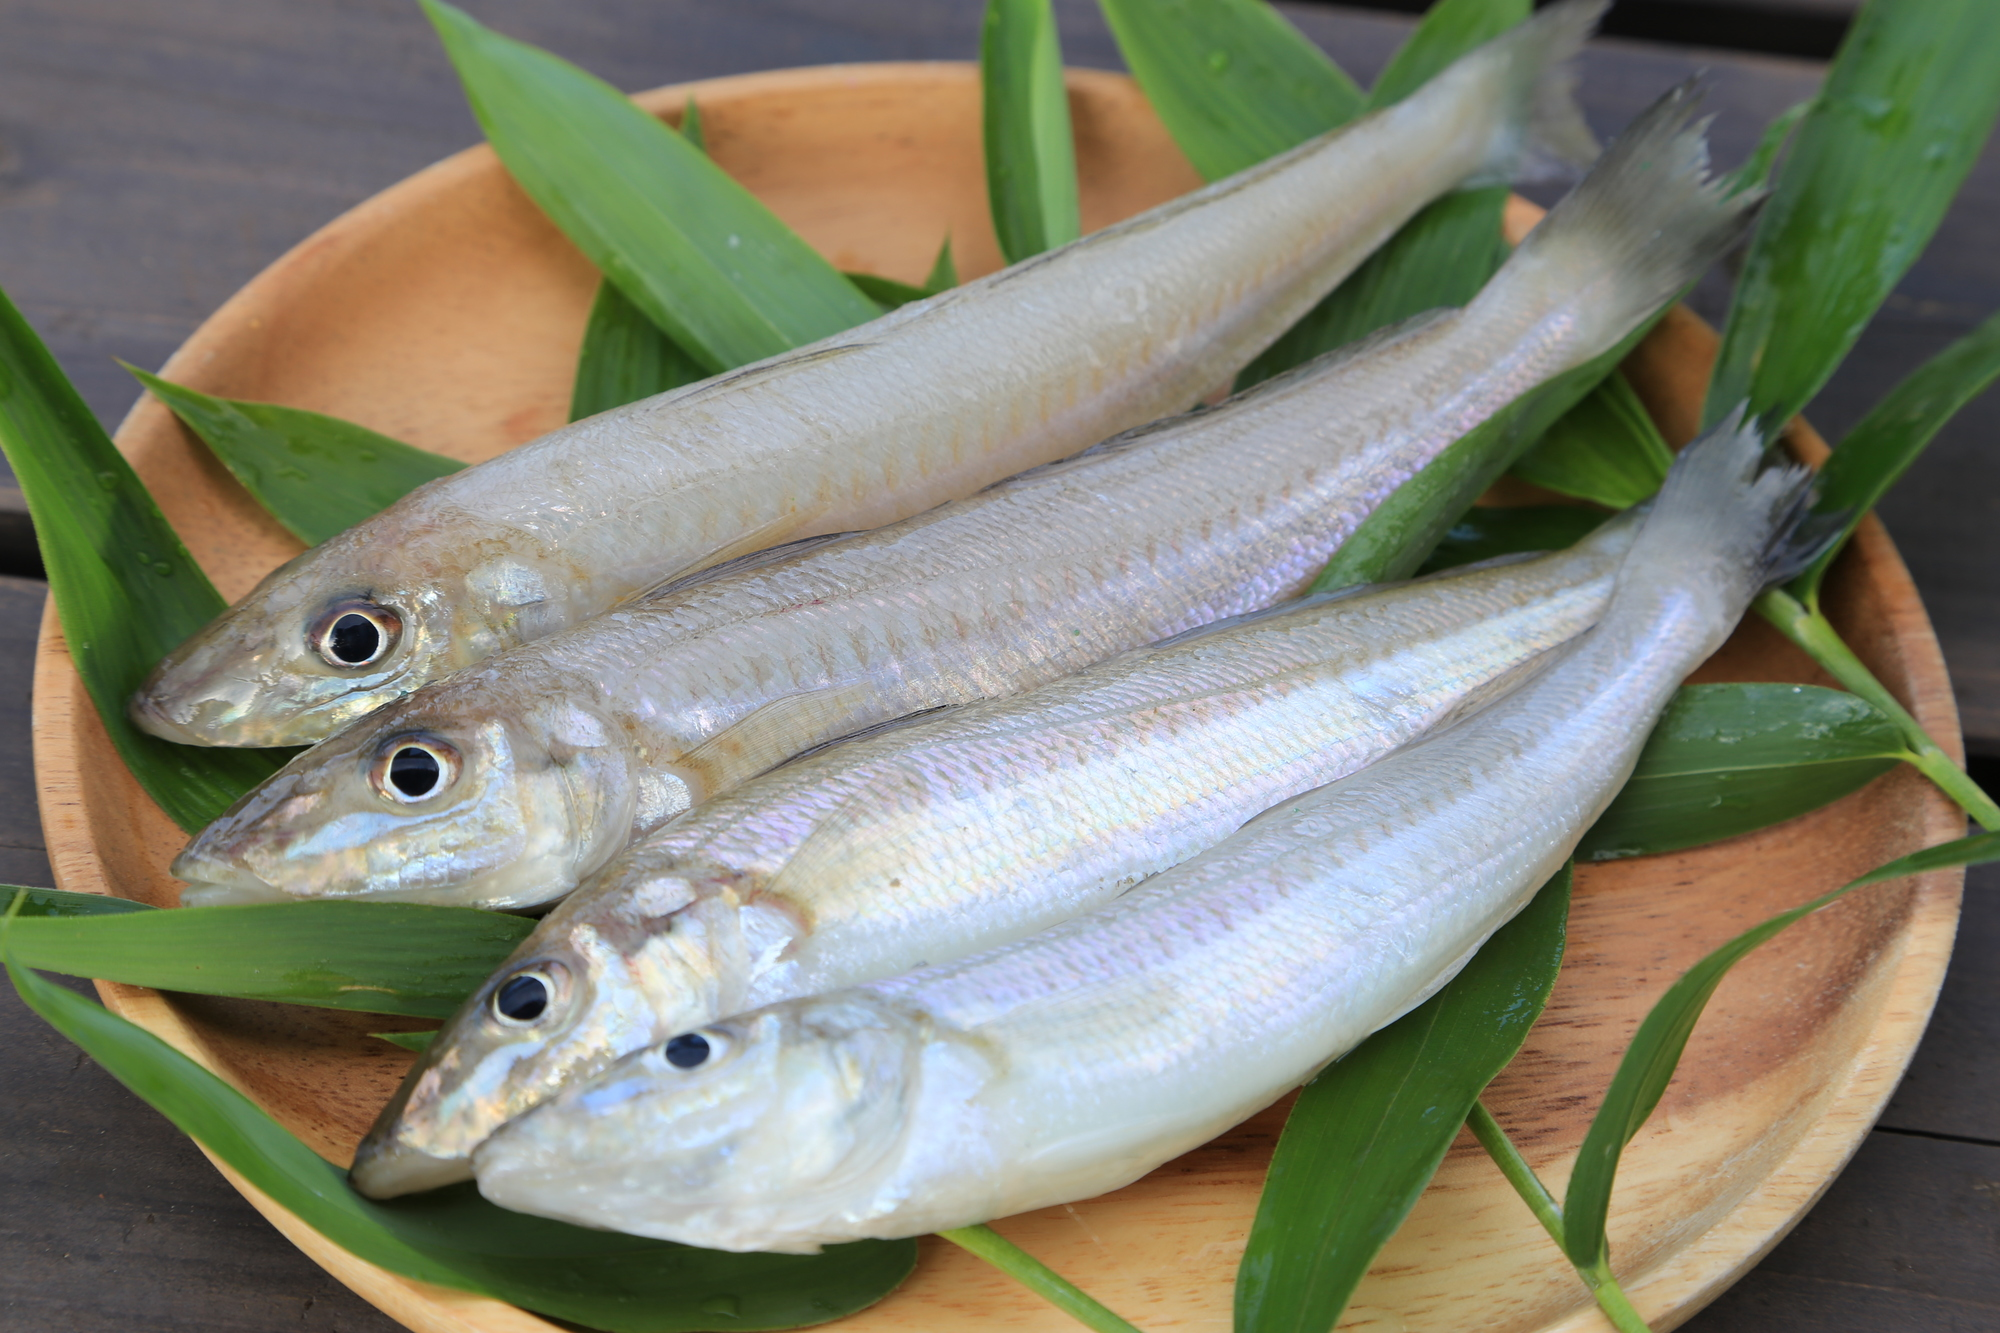kiss: (131, 12, 1798, 1262)
